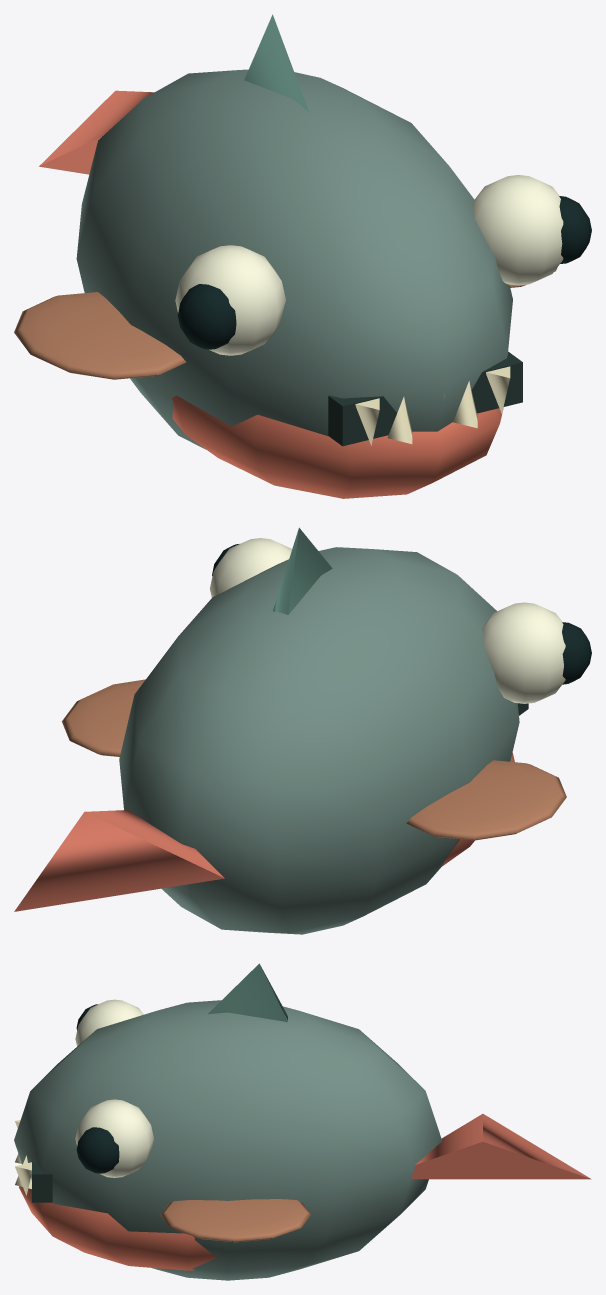
The model's file is piranha.glb.
3 views of the same model, one above another, from view 1: azimuth 30°, elevation 25°; view 2: azimuth 150°, elevation 25°; view 3: azimuth 270°, elevation 25° (orthographic). The views are drawn at different scales.
Visible parts, largest first — view 1: body, belly, eye-white (×2), pectoral, pupil (×2), mouth, tail-fan, tooth (×4), dorsal; view 2: body, pectoral (×2), tail-fan, eye-white (×2), dorsal, pupil; view 3: body, tail-fan, belly, pectoral, eye-white (×2), dorsal, pupil, mouth.
Boxes of the visible parts, bbox=[...] form: body: bbox=[76, 69, 512, 449]; belly: bbox=[172, 395, 503, 498]; eye-white (×2): bbox=[175, 175, 563, 355]; pectoral: bbox=[14, 292, 186, 379]; pupil (×2): bbox=[177, 196, 591, 349]; mouth: bbox=[328, 351, 522, 446]; tail-fan: bbox=[39, 90, 153, 174]; tooth (×4): bbox=[355, 366, 510, 445]; dorsal: bbox=[244, 14, 308, 111]; body: bbox=[119, 547, 519, 934]; pectoral (×2): bbox=[62, 679, 566, 840]; tail-fan: bbox=[14, 810, 224, 911]; eye-white (×2): bbox=[210, 538, 565, 703]; dorsal: bbox=[273, 527, 332, 614]; pupil: bbox=[562, 622, 591, 684]; body: bbox=[14, 1000, 441, 1280]; tail-fan: bbox=[411, 1114, 591, 1179]; belly: bbox=[19, 1186, 216, 1270]; pectoral: bbox=[160, 1199, 311, 1242]; eye-white (×2): bbox=[75, 999, 153, 1177]; dorsal: bbox=[208, 963, 287, 1022]; pupil: bbox=[76, 1127, 119, 1173]; mouth: bbox=[32, 1160, 52, 1202].
Bounding box in the file's own units: 2.97 × 2.35 × 4.04.
